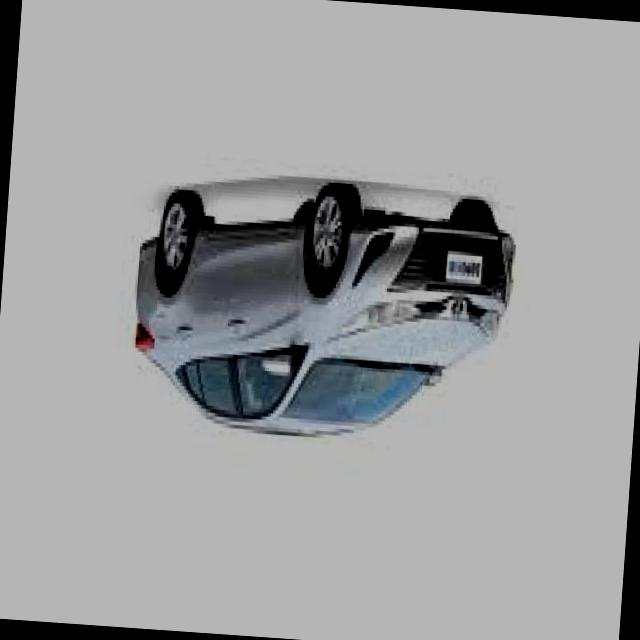ToyotaVios: (125, 169, 520, 454)
